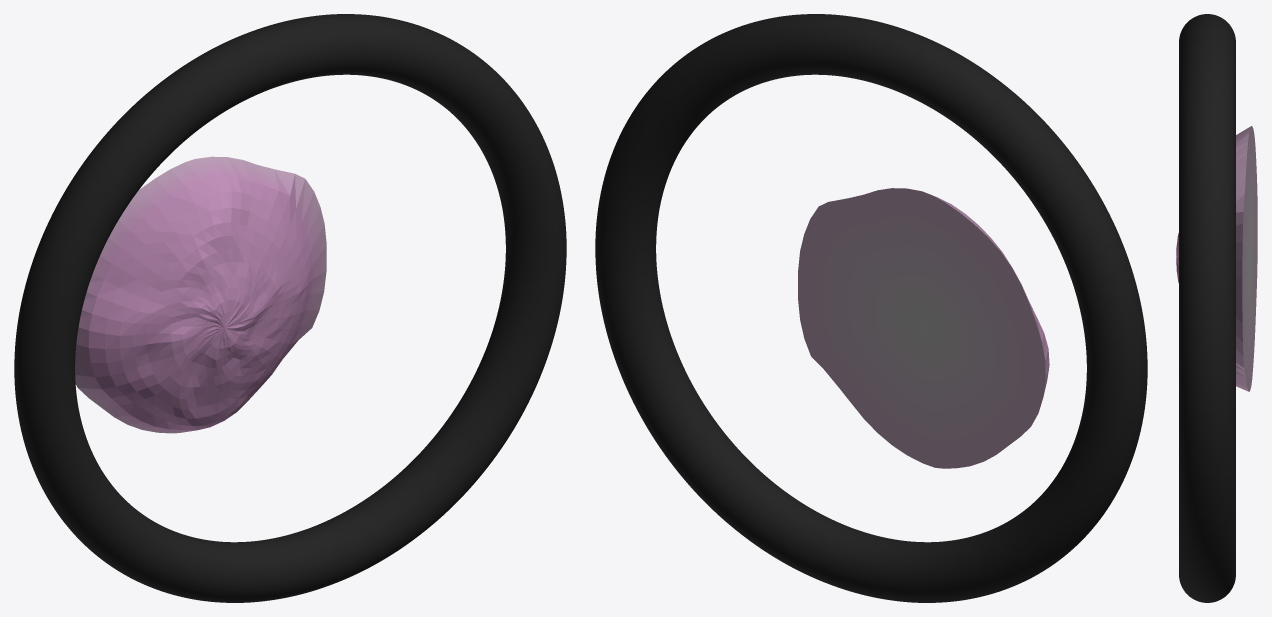
File: FINAL012_with_Ring_m.glb
3 renders of one model, left to right at view 1: azimuth 30°, elevation 25°; view 2: azimuth 150°, elevation 25°; view 3: azimuth 270°, elevation 25°, orthographic. The views are drawn at different scales.
Visible parts, largest first — view 1: Ring_CAD, Polyp_FINAL012; view 2: Ring_CAD, Polyp_FINAL012; view 3: Ring_CAD, Polyp_FINAL012.
Boxes of the visible parts, x1,y1,x2,y2 form: Ring_CAD: (14,14,566,602); Polyp_FINAL012: (75,156,326,433); Ring_CAD: (595,14,1147,602); Polyp_FINAL012: (798,188,1049,468); Ring_CAD: (1179,14,1235,602); Polyp_FINAL012: (1176,126,1257,391).
Bounding box in the file's own units: 0.0124 × 0.0124 × 0.00172.
